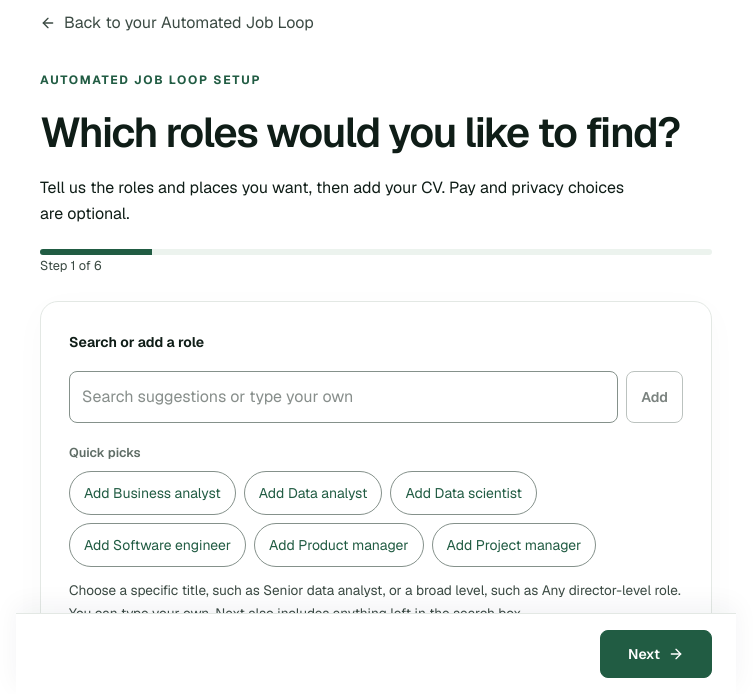
Roles step: one-tap choices › tapping one adds it to the list and the editable list, removes it from the choices and brings the next unselected one in
The image size is (753, 694).
Later steps or results of the test are not shown.
Click the button "Add Business analyst" at (152, 494), box [69,472,236,516]
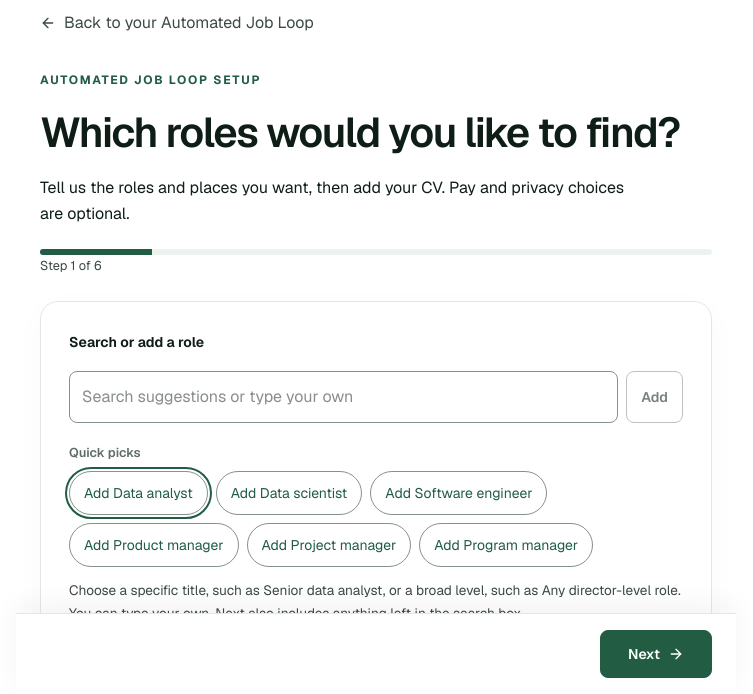
Expected: the button "Add Business analyst" is gone
